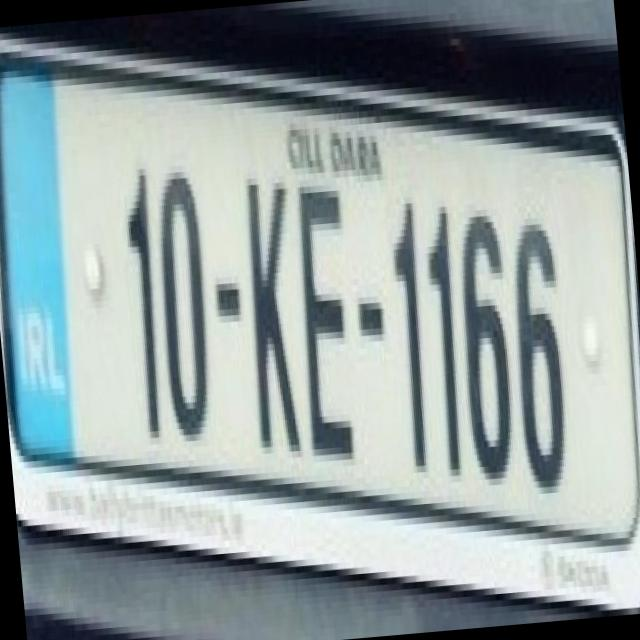0: (137, 138, 222, 436)
1: (90, 142, 176, 440), (392, 174, 472, 472), (364, 176, 444, 468)
6: (438, 194, 534, 481), (498, 197, 576, 482)
E: (281, 164, 368, 462)
K: (226, 150, 314, 454)
